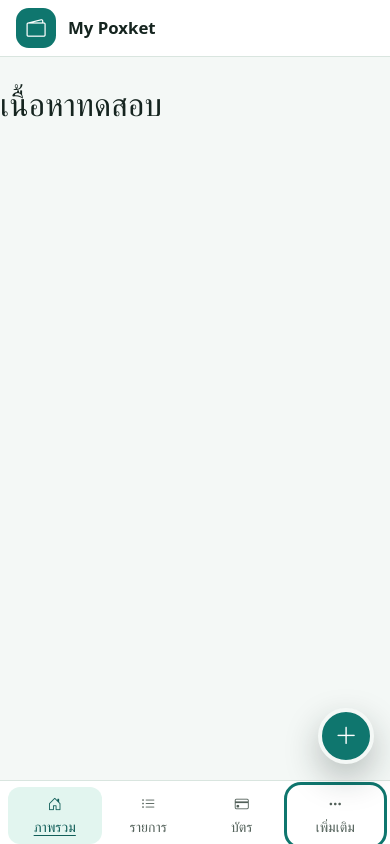
Test: mobile navigation › disables sign-out while the existing logout flow is pending
The width and height of the screenshot is (390, 844).
Step 1. Click the button "เพิ่มเติม" → (335, 815), box [288,787,382,843]
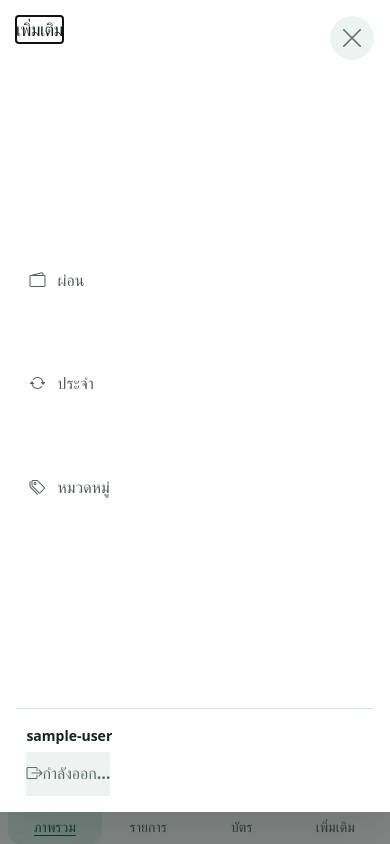
expect the button "กำลังออก…" is disabled: met, box [26,752,110,796]
